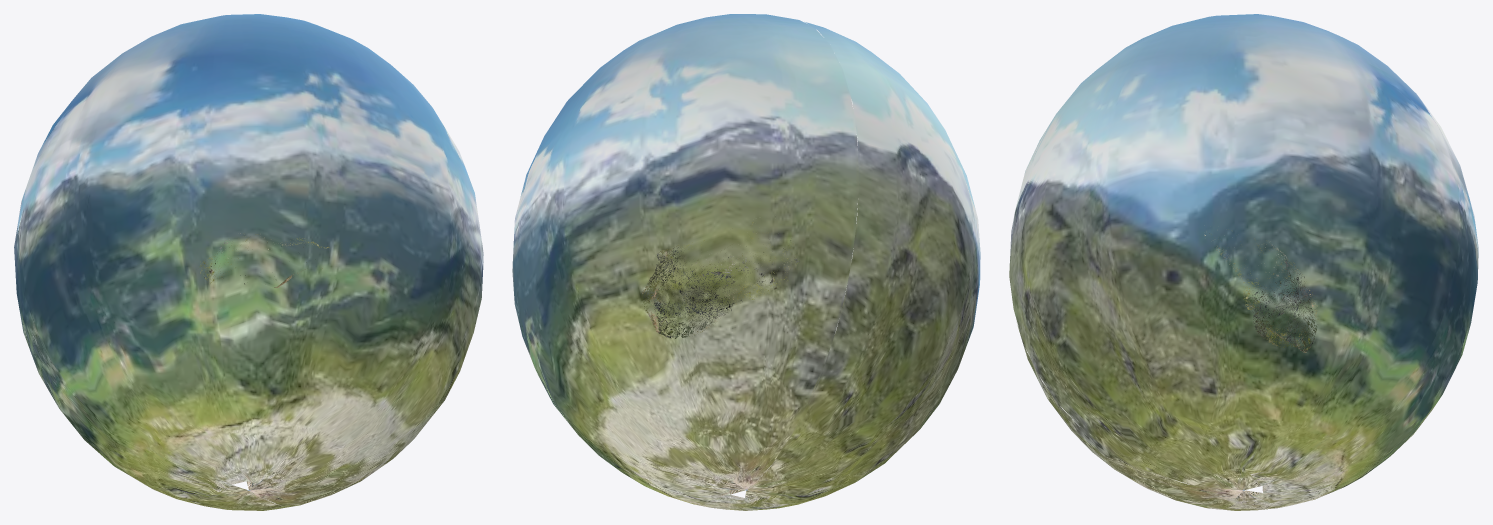
File: zwoelfernock-mountain.glb
The picture shows the model from 3 angles, left to right: view 1: azimuth 30°, elevation 25°; view 2: azimuth 150°, elevation 25°; view 3: azimuth 270°, elevation 25°; orthographic projection.
Parts seen in each view (by area): view 1: zwoelfernock-mountain; view 2: zwoelfernock-mountain; view 3: zwoelfernock-mountain.
Boxes of the visible parts, <box> form: zwoelfernock-mountain: <box>14,14,483,510</box>; zwoelfernock-mountain: <box>512,14,980,510</box>; zwoelfernock-mountain: <box>1009,14,1478,510</box>.
Bounding box in the file's own units: 5.39 × 5.76 × 5.38.
Materials: 2 (2 with a texture image).
